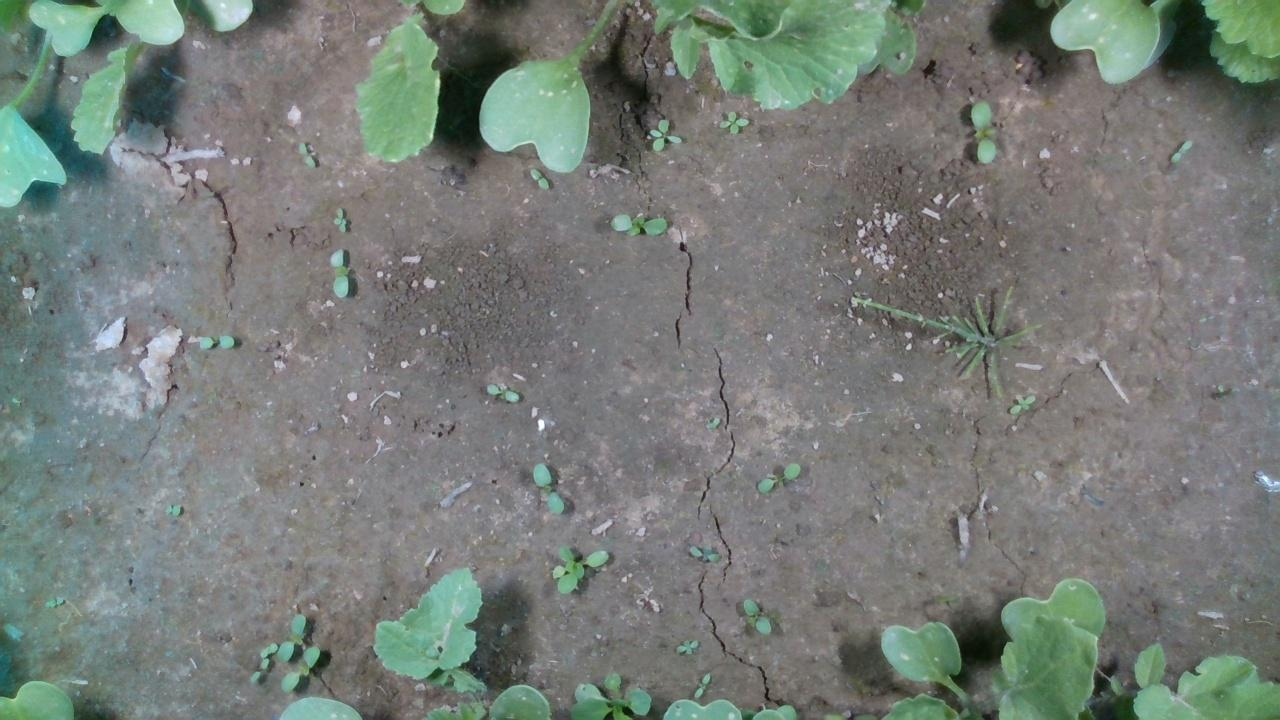weed: (968, 98, 998, 165), (531, 462, 563, 514), (607, 212, 668, 237), (755, 460, 801, 492), (646, 116, 681, 151), (327, 246, 349, 298), (484, 380, 519, 403), (716, 110, 748, 135), (1168, 137, 1193, 165), (1007, 391, 1035, 414), (197, 332, 234, 349), (297, 140, 315, 169), (528, 167, 549, 189), (331, 205, 346, 233)
